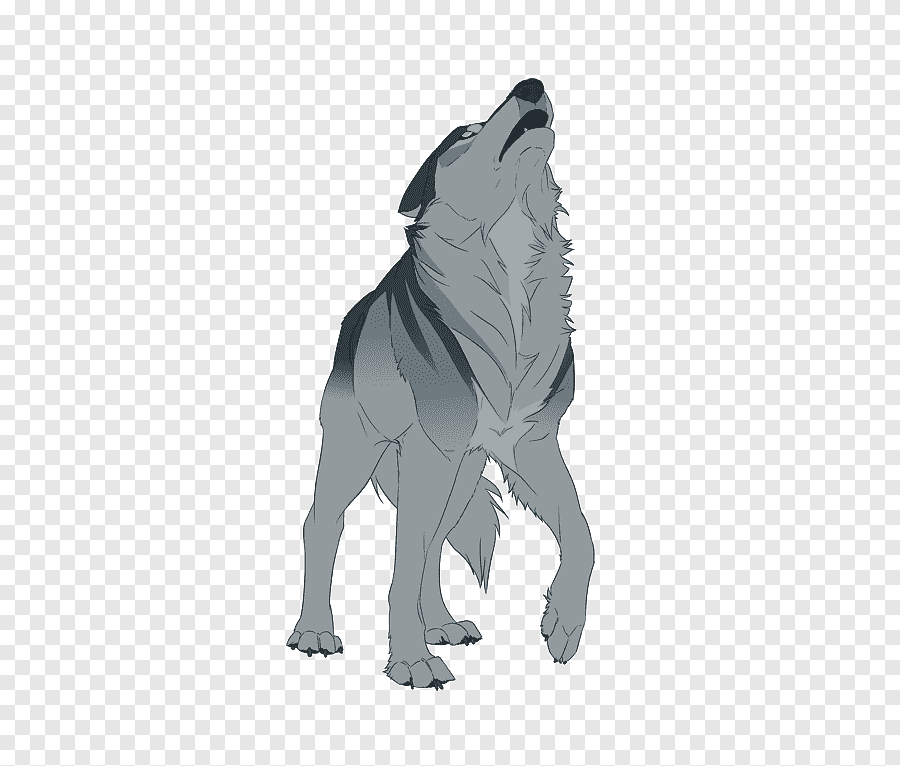Lobo: (264, 64, 622, 702)
